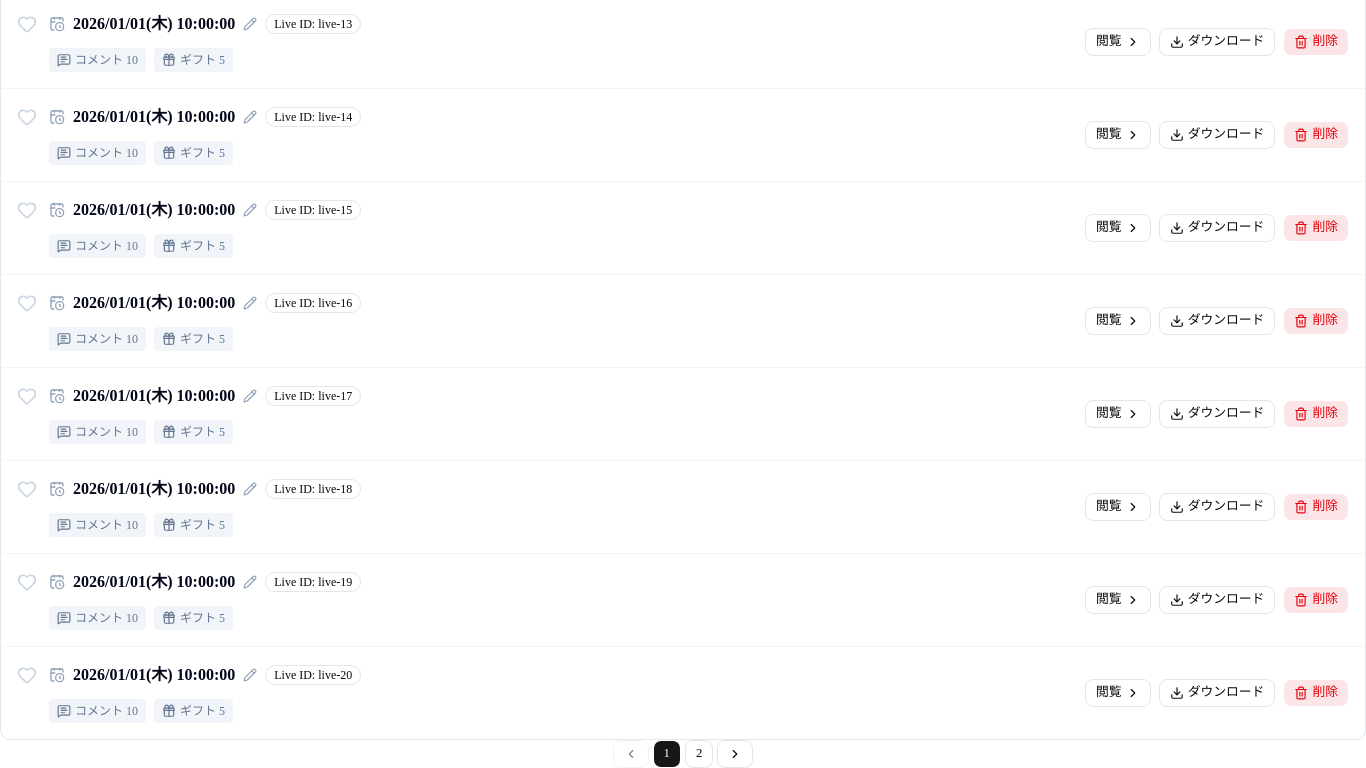
Test case: LogListPage › ページネーション - ページ移動 › 「次のページ」ボタンをクリックすると2ページ目に移動する
(page scrolled)
Click the button named "次のページ" at (735, 754), box x1=717 y1=740 x2=753 y2=767
(page scrolled)
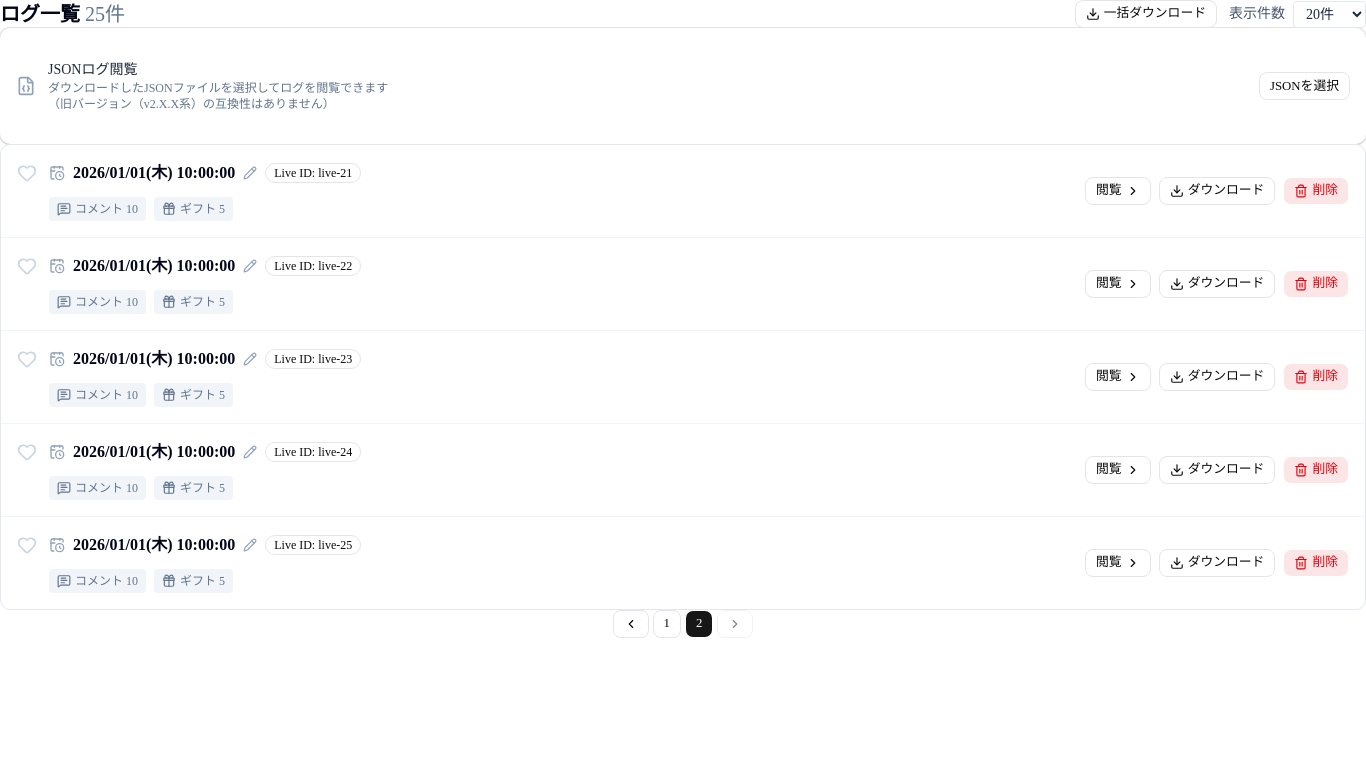
Expected: the text "Live ID: live-1" is gone
Expected: the text "Live ID: live-21" is shown, x1=265 y1=163 x2=361 y2=183
